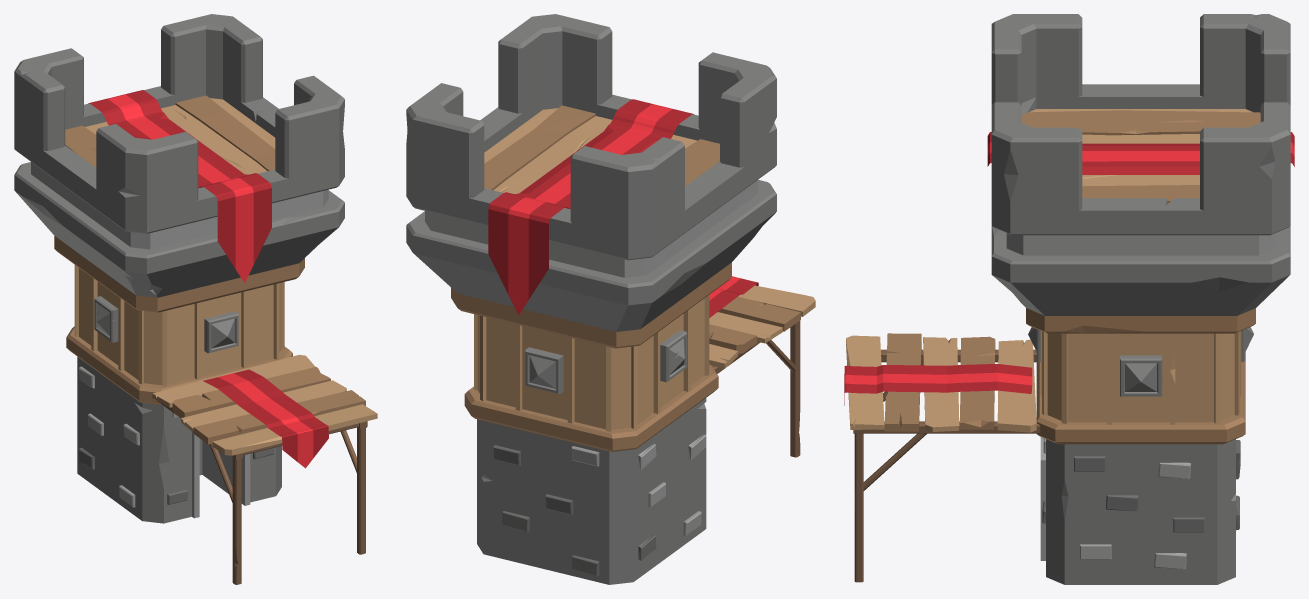
File: TowerPartsModel.FBX
3 renders of one model, left to right at view 1: azimuth 30°, elevation 25°; view 2: azimuth 150°, elevation 25°; view 3: azimuth 270°, elevation 25°, orthographic. The views are drawn at different scales.
Visible parts, largest first — view 1: Tower1-d05, Tower1-d00, Tower1-d01, Tower1-d06, Tower1-d07, Tower1-d04, Tower1-d10, Tower1-d02, Tower1-d08, Tower1-d03, Tower1-d09; view 2: Tower1-d00, Tower1-d06, Tower1-d08, Tower1-d10, Tower1-d05, Tower1-d02, Tower1-d04, Tower1-d03, Tower1-d01, Tower1-d09, Tower1-d07; view 3: Tower1-d10, Tower1-d00, Tower1-d07, Tower1-d01, Tower1-d05, Tower1-d06, Tower1-d03, Tower1-d04, Tower1-d02, Tower1-d08.
Boxes of the visible parts, x1=… form: Tower1-d05: x1=125, y1=75, x2=344, y2=297; Tower1-d00: x1=77, y1=357, x2=281, y2=523; Tower1-d01: x1=152, y1=354, x2=377, y2=554; Tower1-d06: x1=14, y1=48, x2=161, y2=297; Tower1-d07: x1=136, y1=258, x2=304, y2=404; Tower1-d04: x1=93, y1=124, x2=198, y2=249; Tower1-d10: x1=144, y1=14, x2=344, y2=256; Tower1-d02: x1=88, y1=90, x2=271, y2=282; Tower1-d08: x1=54, y1=236, x2=143, y2=401; Tower1-d03: x1=65, y1=95, x2=275, y2=174; Tower1-d09: x1=209, y1=443, x2=241, y2=584; Tower1-d00: x1=477, y1=398, x2=706, y2=584; Tower1-d06: x1=537, y1=137, x2=776, y2=331; Tower1-d08: x1=457, y1=262, x2=731, y2=451; Tower1-d10: x1=406, y1=83, x2=555, y2=317; Tower1-d05: x1=498, y1=14, x2=776, y2=193; Tower1-d02: x1=488, y1=99, x2=693, y2=315; Tower1-d04: x1=698, y1=52, x2=776, y2=197; Tower1-d03: x1=484, y1=105, x2=719, y2=194; Tower1-d01: x1=709, y1=276, x2=815, y2=373; Tower1-d09: x1=766, y1=321, x2=800, y2=457; Tower1-d07: x1=451, y1=287, x2=717, y2=415; Tower1-d10: x1=992, y1=102, x2=1290, y2=315; Tower1-d00: x1=1040, y1=437, x2=1240, y2=584; Tower1-d07: x1=1026, y1=308, x2=1255, y2=444; Tower1-d01: x1=844, y1=333, x2=1040, y2=582; Tower1-d05: x1=991, y1=97, x2=1092, y2=305; Tower1-d06: x1=1037, y1=14, x2=1290, y2=112; Tower1-d03: x1=1021, y1=109, x2=1260, y2=203; Tower1-d04: x1=991, y1=14, x2=1085, y2=114; Tower1-d02: x1=987, y1=132, x2=1294, y2=174; Tower1-d08: x1=1234, y1=327, x2=1253, y2=421.
Size of the model in its own units: 283 by 490 by 427.
